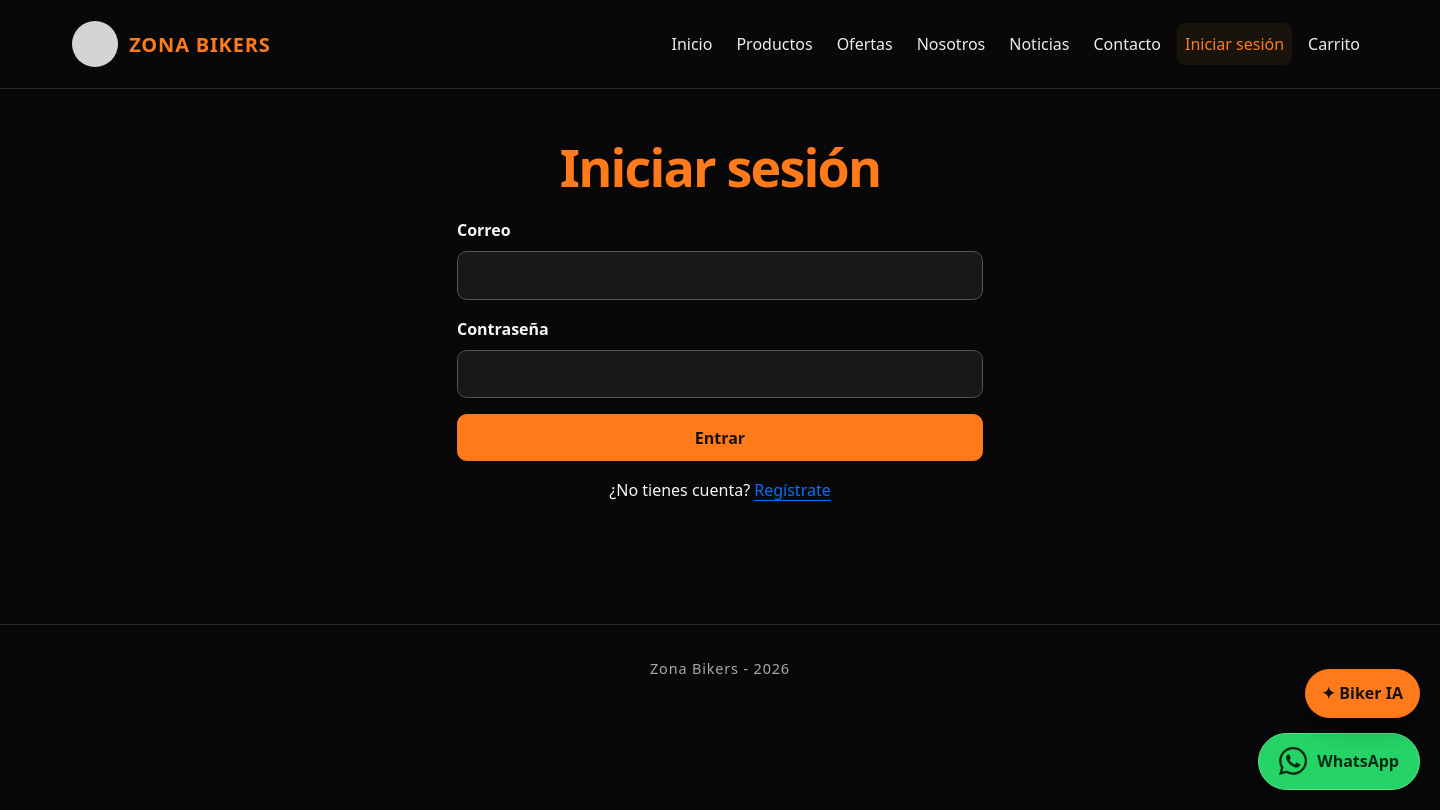
Scenario: Formularios públicos › inicia sesión como administrador
Step 1. Type "ADMIN@DUOC.CL" into the field labelled "Correo" → {"x": 720, "y": 275}, box top-left (457, 251), bottom-right (983, 300)
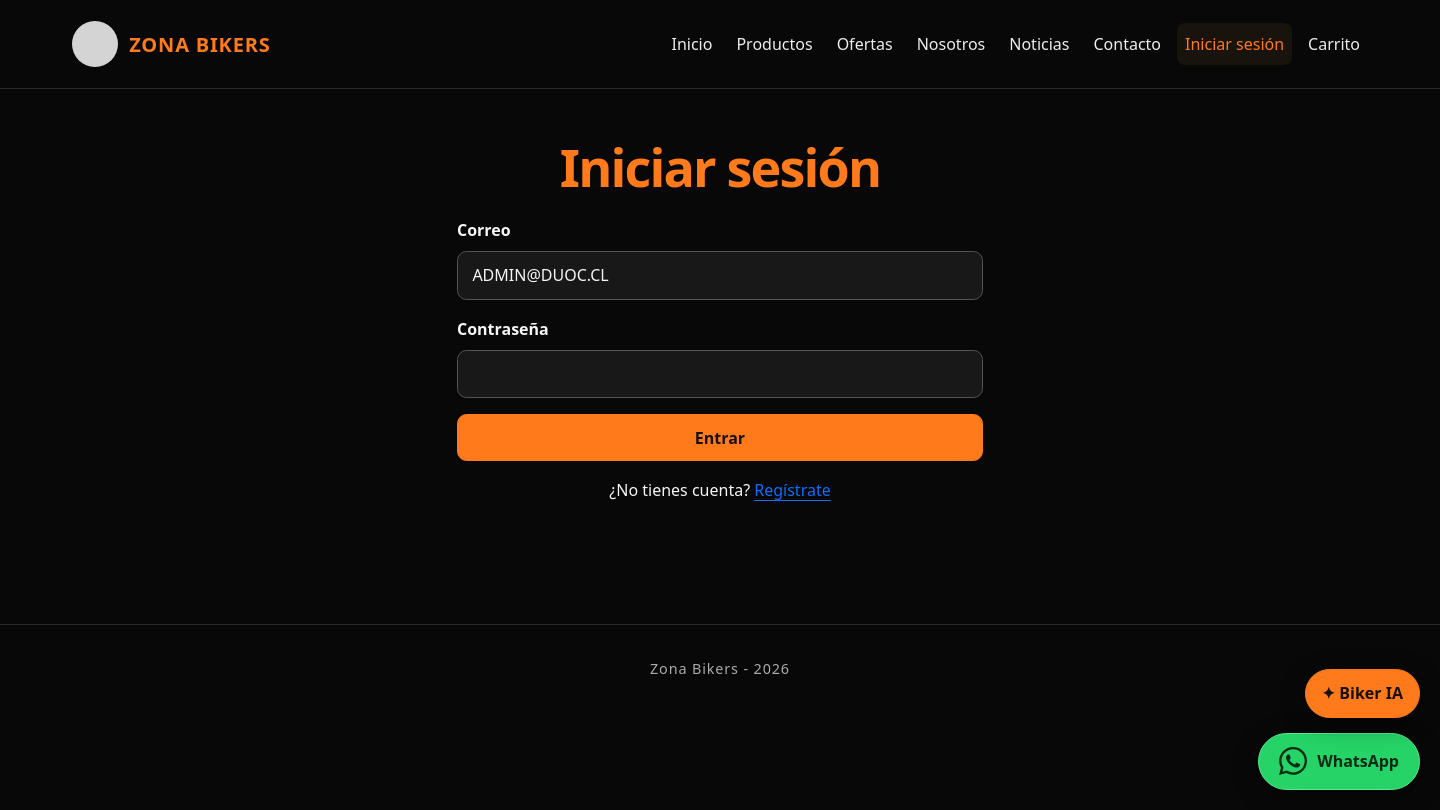
Step 2. Type "12345" into the password field labelled "Contraseña" → {"x": 720, "y": 374}, box top-left (457, 350), bottom-right (983, 398)
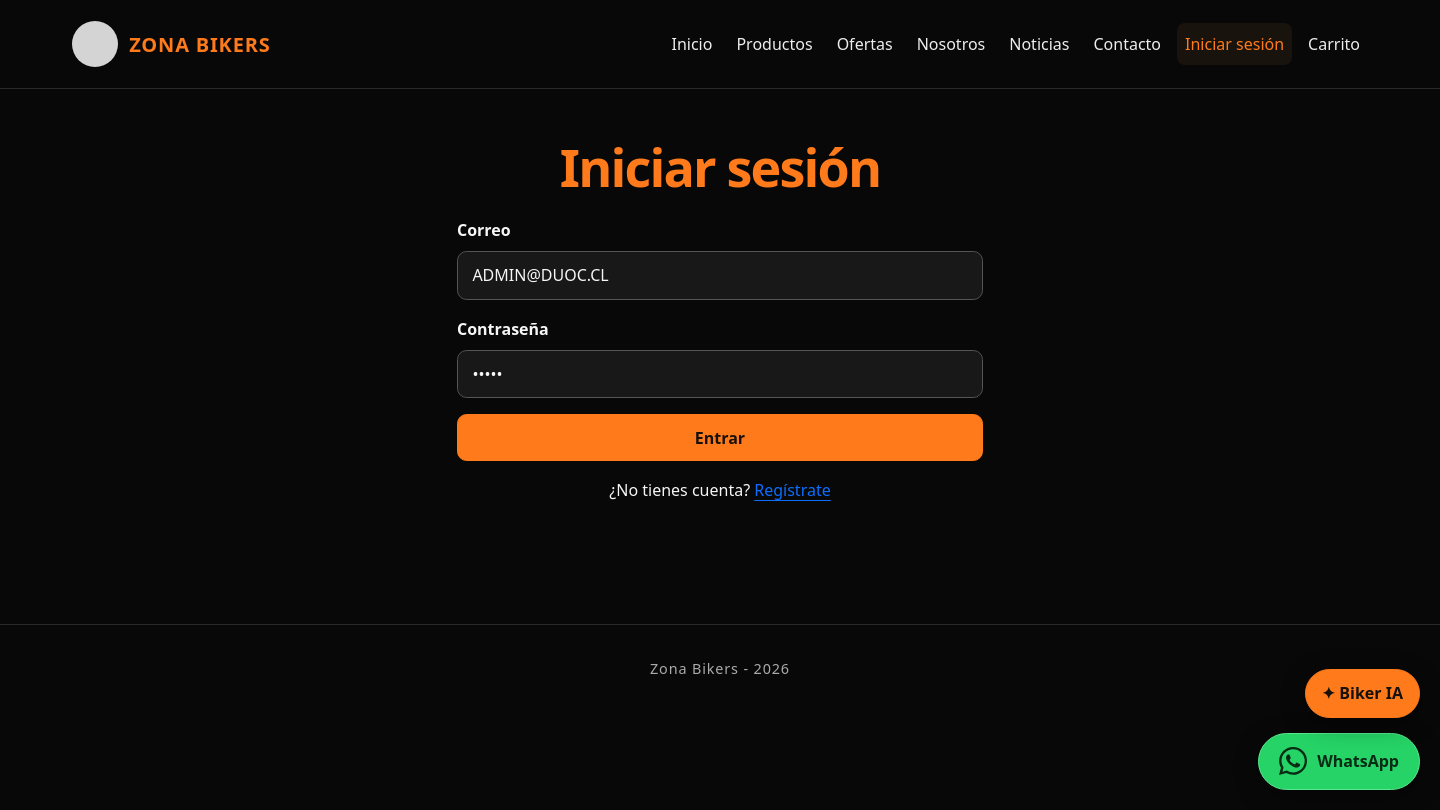
Step 3. Click the button "Entrar" → {"x": 720, "y": 438}, box top-left (457, 414), bottom-right (983, 461)
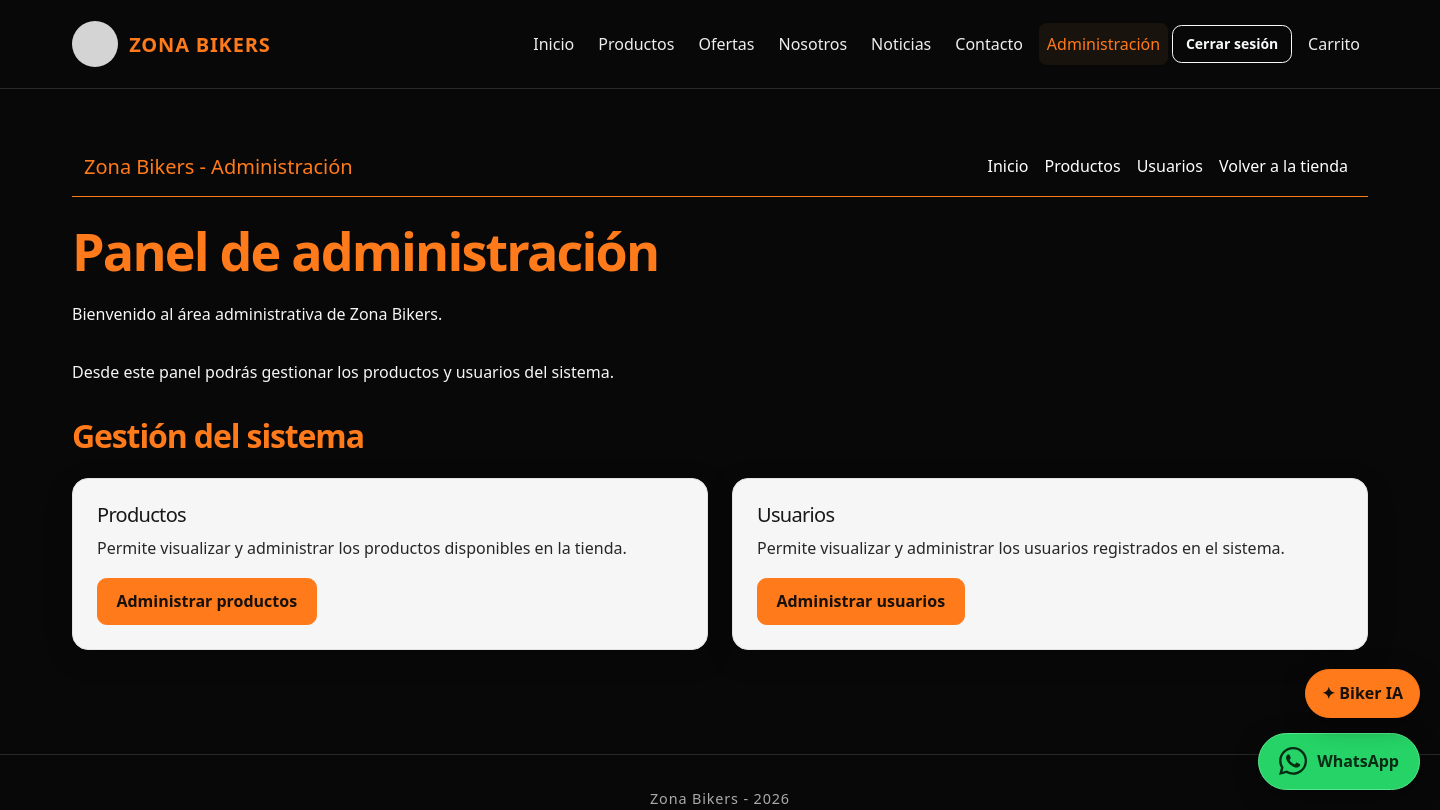
Check: the heading "Panel de administración" is shown, box top-left (72, 215), bottom-right (658, 286)
